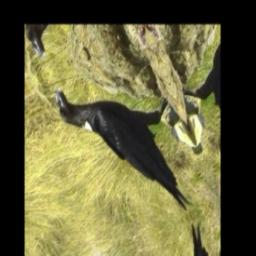Crow: (49, 44, 212, 249)
